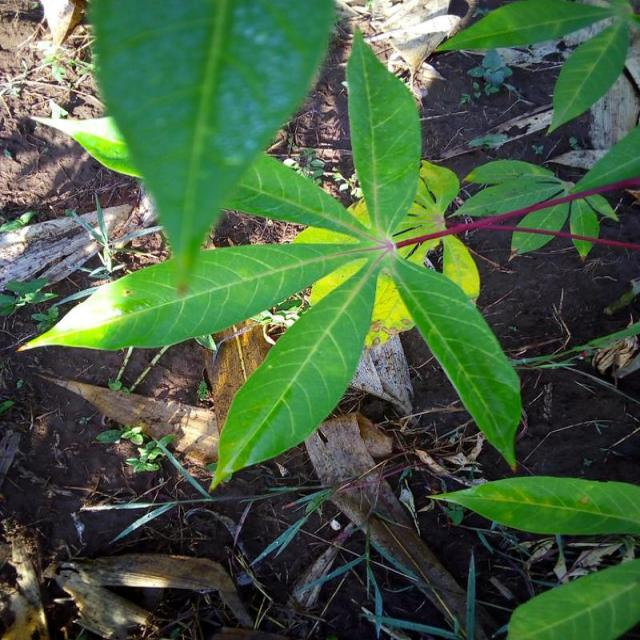cassava leaf: (18, 21, 524, 488), (84, 0, 338, 283), (208, 258, 378, 493), (387, 253, 522, 469), (426, 474, 639, 536)
